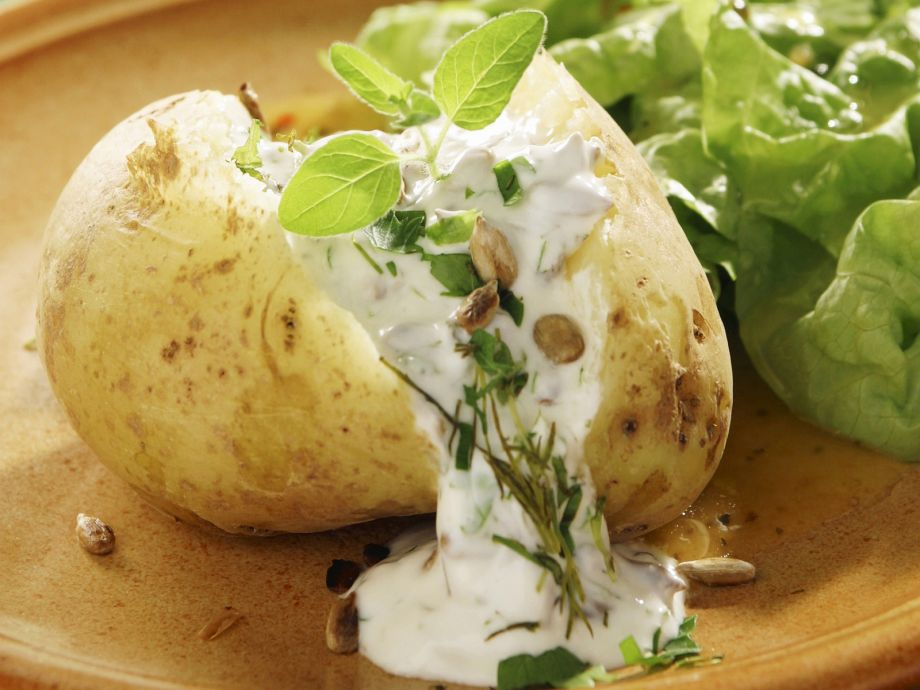boiled potatoes: (65, 101, 733, 523)
chopped lettuce: (691, 1, 920, 425)
